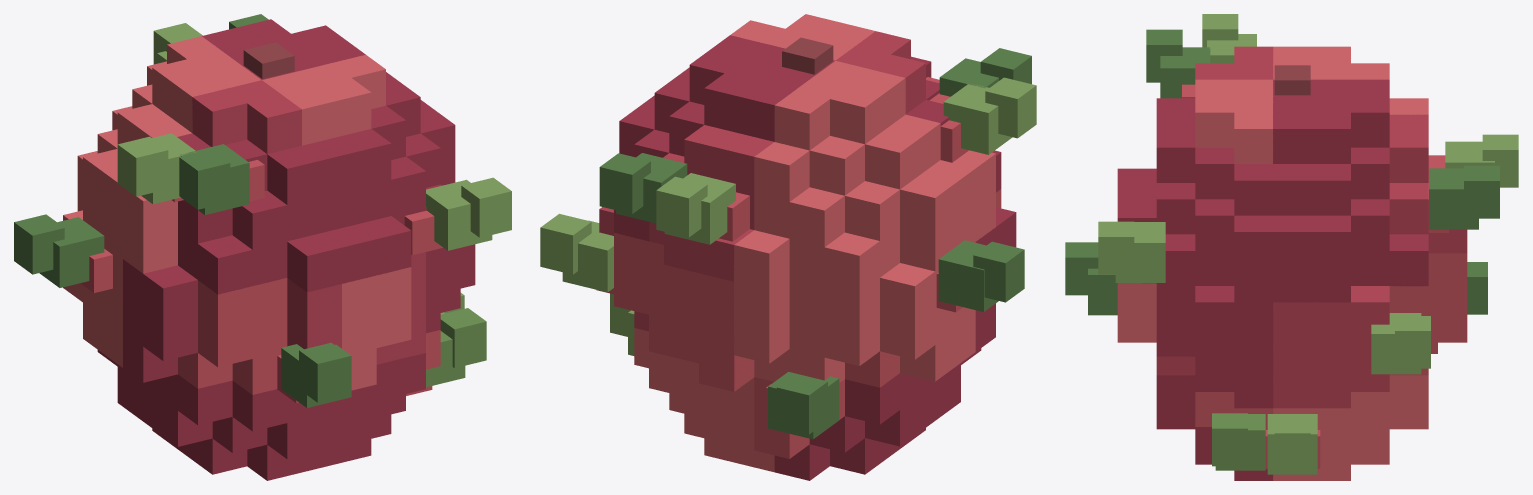
Rendered from DF-01_cebra.glb.
3 renders of one model, left to right at view 1: azimuth 30°, elevation 25°; view 2: azimuth 150°, elevation 25°; view 3: azimuth 270°, elevation 25°, orthographic. The views are drawn at different scales.
Visible parts, largest first — view 1: Cebra · original workbench cubes; view 2: Cebra · original workbench cubes; view 3: Cebra · original workbench cubes.
Part boxes in pixels (x1=…): Cebra · original workbench cubes: x1=14, y1=14, x2=511, y2=480; Cebra · original workbench cubes: x1=540, y1=14, x2=1036, y2=480; Cebra · original workbench cubes: x1=1065, y1=14, x2=1518, y2=480.
Bounding box in the file's own units: 0.169 × 0.146 × 0.1636.
